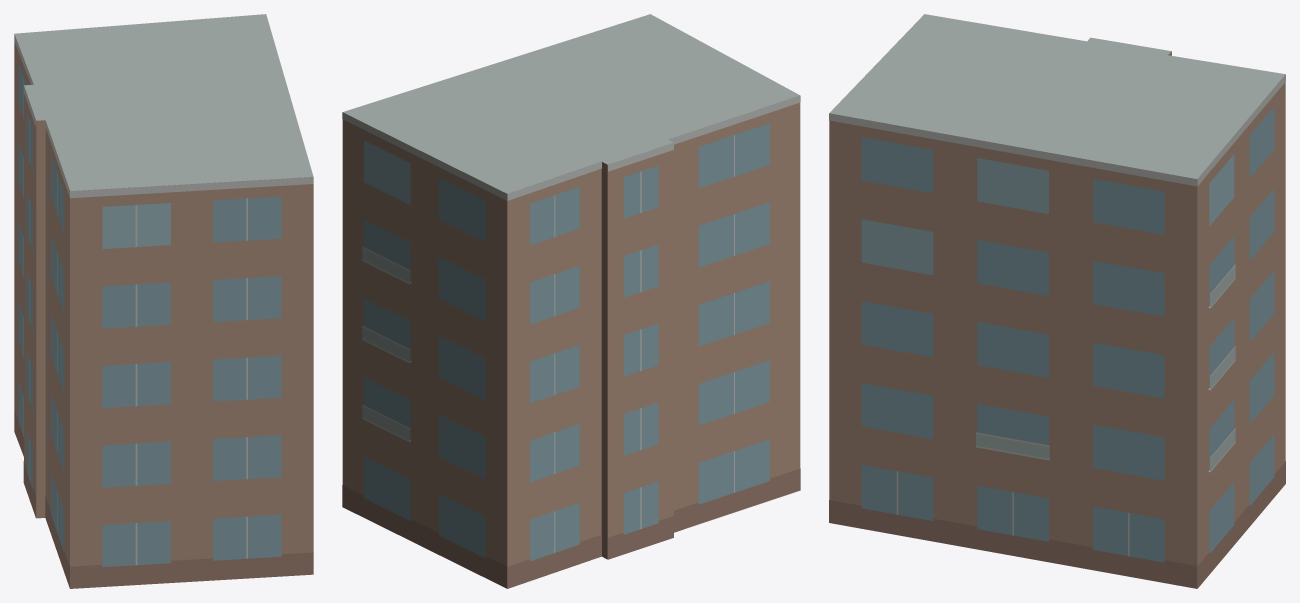
The model's file is survey-upis-32751056.glb.
3 views of the same model, side by side, from view 1: azimuth 30°, elevation 25°; view 2: azimuth 150°, elevation 25°; view 3: azimuth 270°, elevation 25° (orthographic). The views are drawn at different scales.
Visible parts, largest first — view 1: survey-upis-32751056.tmp; view 2: survey-upis-32751056.tmp; view 3: survey-upis-32751056.tmp.
Boxes of the visible parts, box(x1,y1,x2,y2) form: survey-upis-32751056.tmp: box(14, 14, 313, 588); survey-upis-32751056.tmp: box(342, 14, 800, 588); survey-upis-32751056.tmp: box(829, 14, 1285, 588).
Size of the model in its own units: 11.86 by 13.7 by 13.85.
